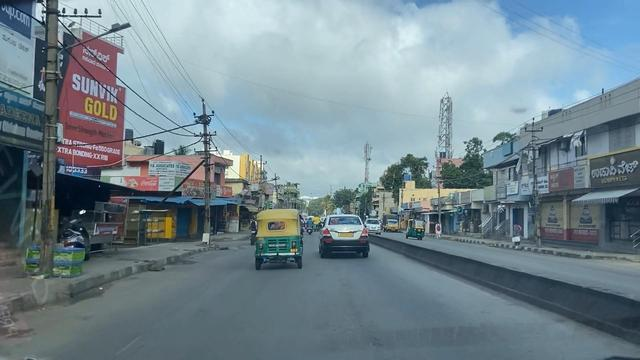LMV: (250, 209, 299, 266), (317, 213, 371, 258)
